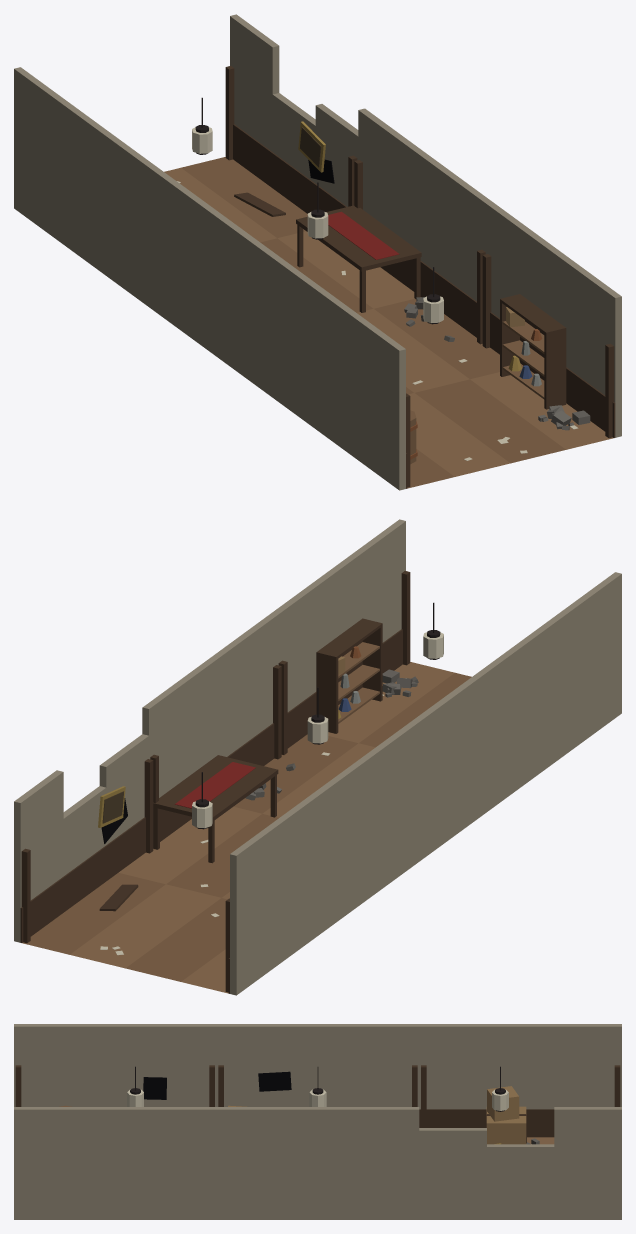
3 views of the same model, one above another, from view 1: azimuth 30°, elevation 25°; view 2: azimuth 150°, elevation 25°; view 3: azimuth 270°, elevation 25° (orthographic). The views are drawn at different scales.
Parts seen in each view (by area): view 1: -_A, -_A_Deco; view 2: -_A, -_A_Deco; view 3: -_A, -_A_Deco.
Boxes of the visible parts, <box> form: -_A: <box>14,14,621,490</box>; -_A_Deco: <box>177,66,615,488</box>; -_A: <box>14,519,621,995</box>; -_A_Deco: <box>20,571,443,993</box>; -_A: <box>14,1024,621,1219</box>; -_A_Deco: <box>15,1065,620,1144</box>.
Bounding box in the file's own units: 2 × 0.6667 × 0.408.
